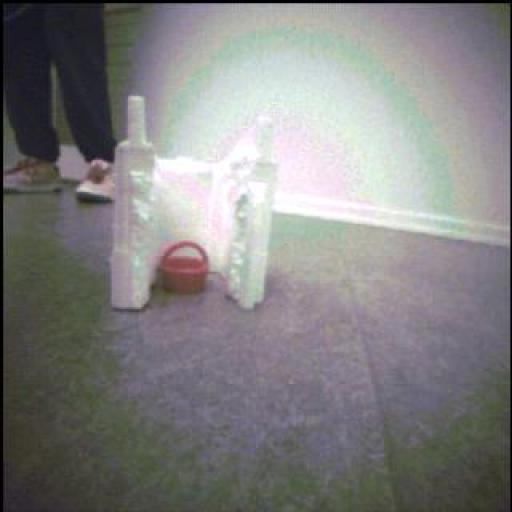Bucket: (155, 239, 216, 295)
